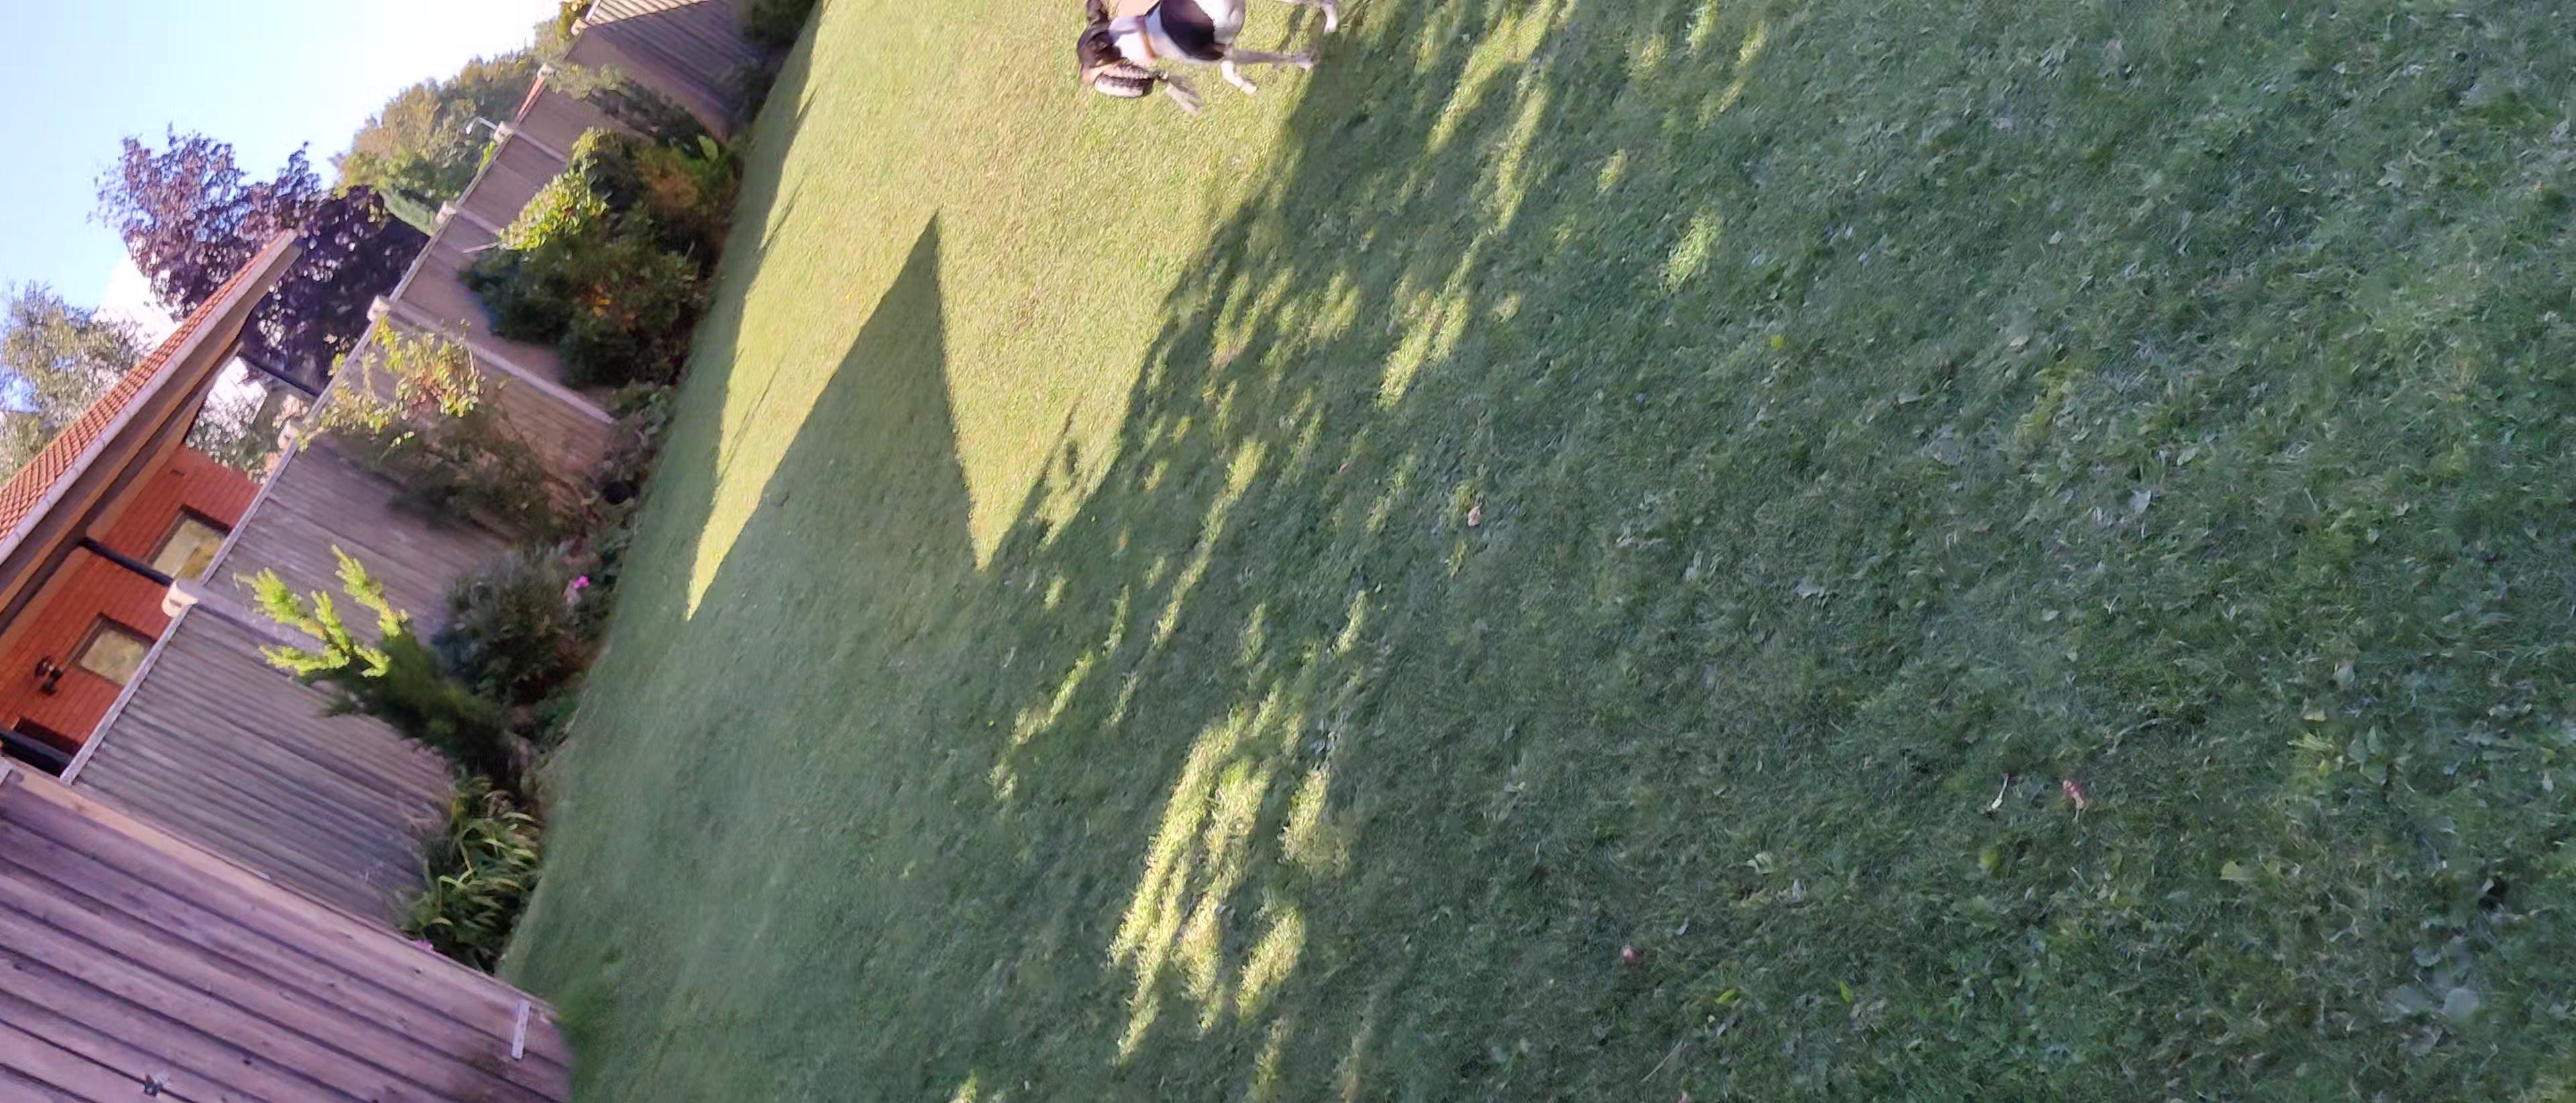Dog: (1065, 0, 1342, 104)
